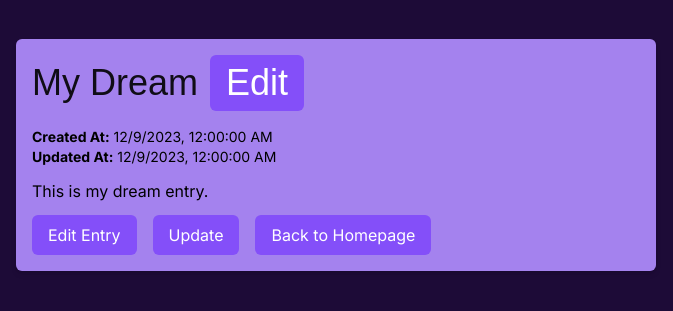
Test: UpdateDream component › allows editing the dream content
The width and height of the screenshot is (673, 311).
Click the button "Edit Entry" at x=84, y=235, box [32, 215, 137, 255]
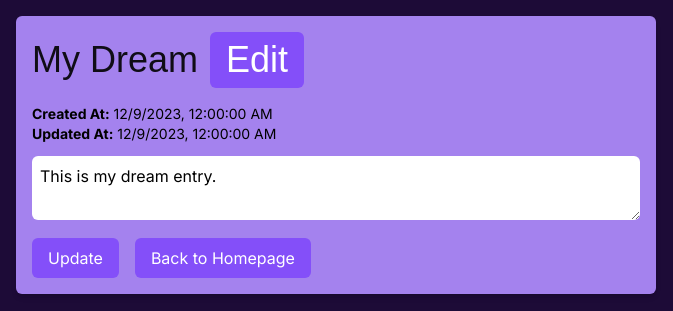
Now the text box named "Entry" is shown, box [32, 156, 640, 220]
